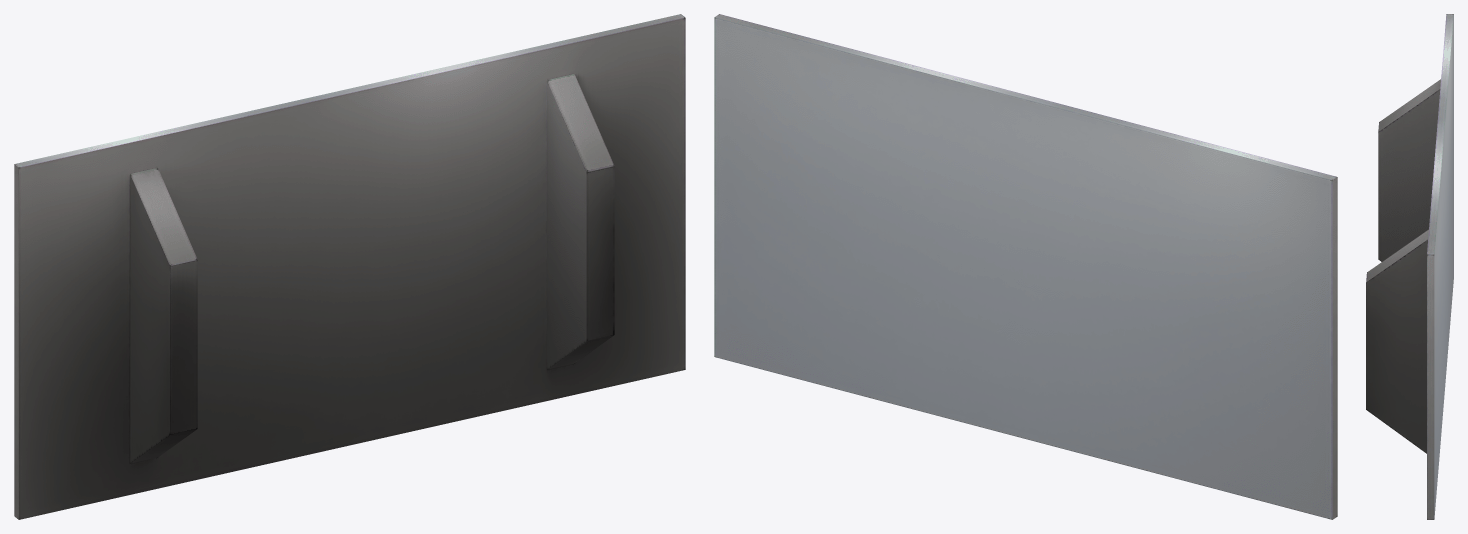
Rendered from EmotionWall (-0.308477, -9.60553, 3.05153).glb.
3 renders of one model, left to right at view 1: azimuth 30°, elevation 25°; view 2: azimuth 150°, elevation 25°; view 3: azimuth 270°, elevation 25°, orthographic. The views are drawn at different scales.
Parts seen in each view (by area): view 1: Emotion Wall.001; view 2: Emotion Wall.001; view 3: Emotion Wall.001.
Part boxes in pixels (x1,y1,x2,y2): Emotion Wall.001: (14,14,685,519); Emotion Wall.001: (714,14,1337,519); Emotion Wall.001: (1366,14,1453,519).
Bounding box in the file's own units: 7 × 3.6 × 1.08.
Materials: 1 (1 with a texture image).
